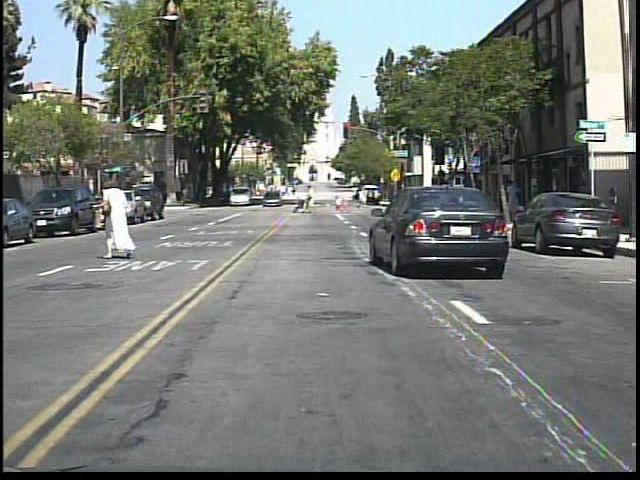person: (98, 173, 142, 266), (501, 173, 524, 224), (304, 184, 318, 215)
